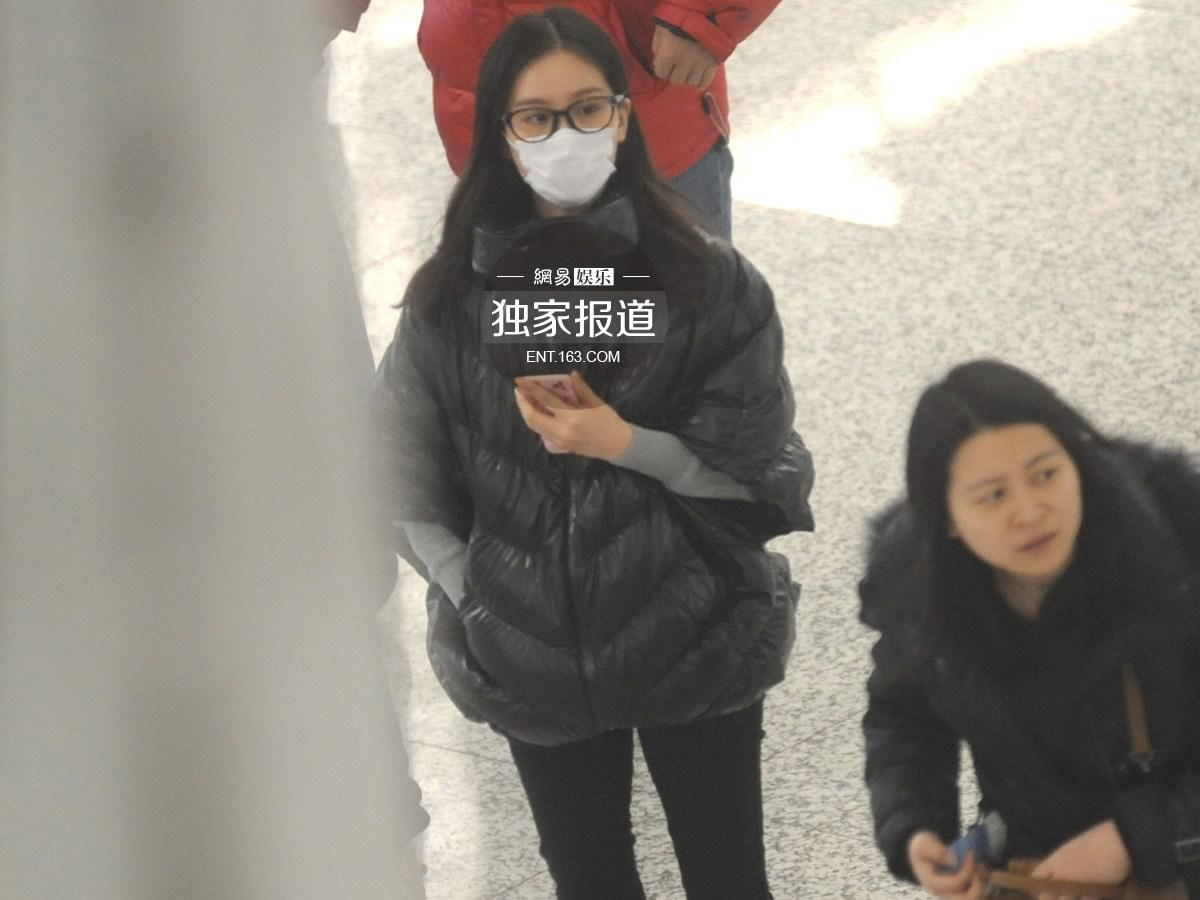NONE: (962, 451, 1077, 561)
OK: (517, 86, 631, 200)
